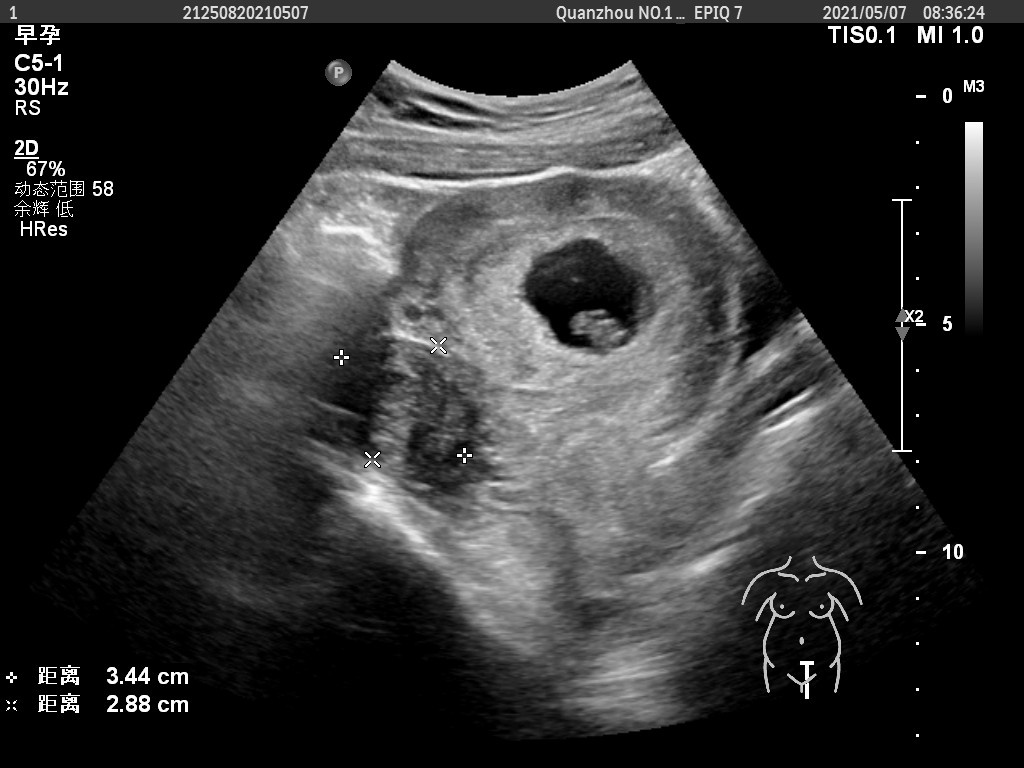肌瘤: (342, 343, 468, 460)
